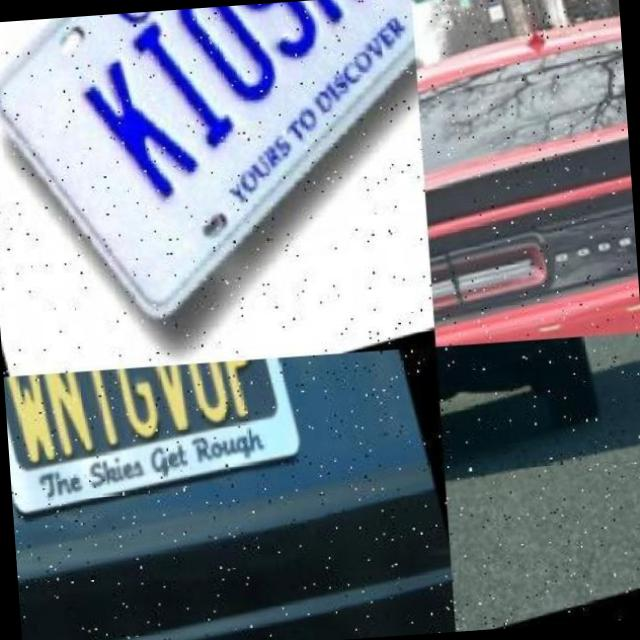LicensePlate: (0, 0, 425, 244), (3, 356, 304, 542)
